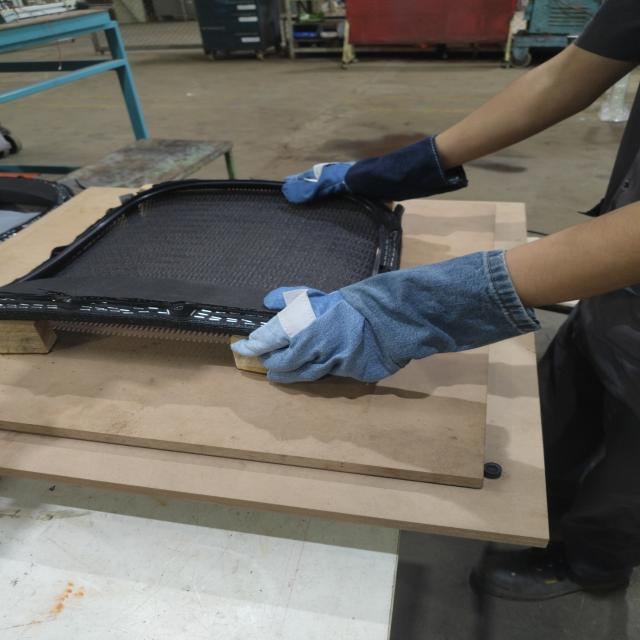Gloves-Detection: (236, 272, 518, 384), (281, 158, 467, 205)
